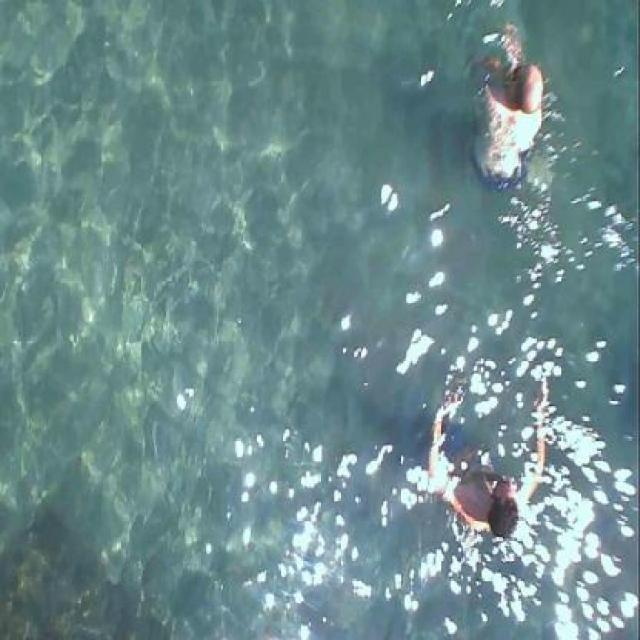swimming: (436, 384, 548, 533), (461, 37, 554, 185)
